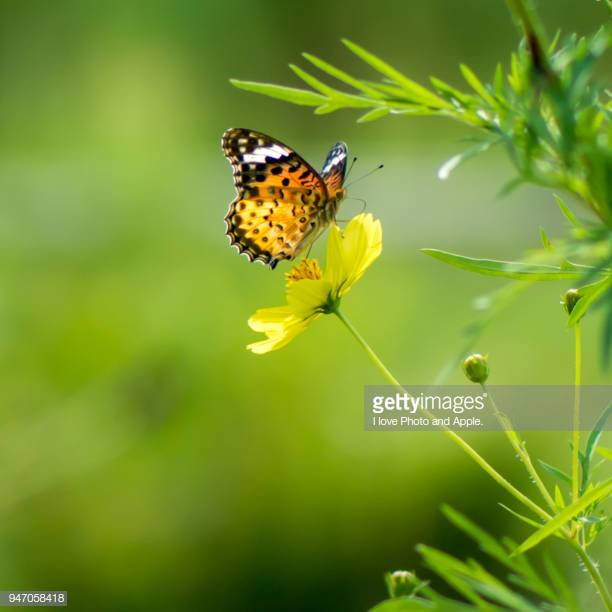Argyreus hyperbius: (215, 120, 383, 268)
butterfly: (217, 122, 385, 270)
